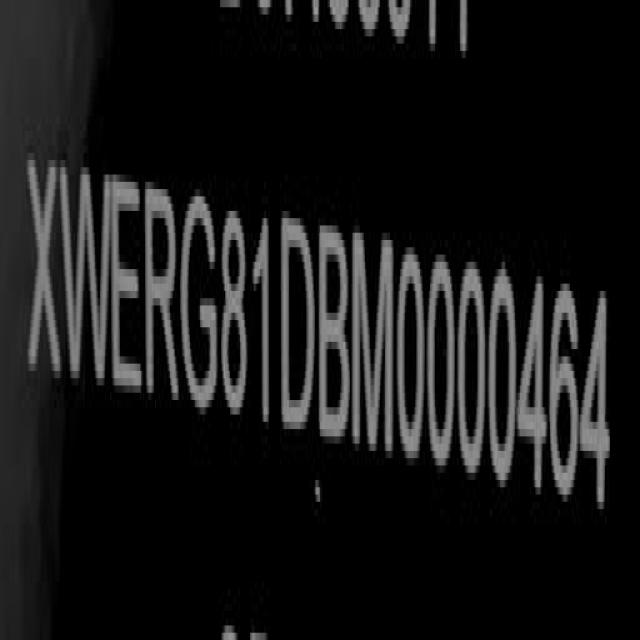0: (455, 255, 486, 485), (397, 240, 427, 475), (429, 246, 458, 478), (491, 261, 518, 494)
1: (253, 205, 276, 437)
4: (582, 280, 615, 523), (518, 266, 549, 502)
6: (550, 273, 582, 513)
8: (218, 199, 250, 428)
B: (318, 214, 352, 456)
D: (280, 205, 315, 442)
E: (111, 156, 145, 412)
G: (179, 178, 219, 412)
M: (353, 222, 397, 467)
R: (143, 166, 180, 408)
W: (60, 144, 115, 406)
X: (27, 138, 62, 402)
